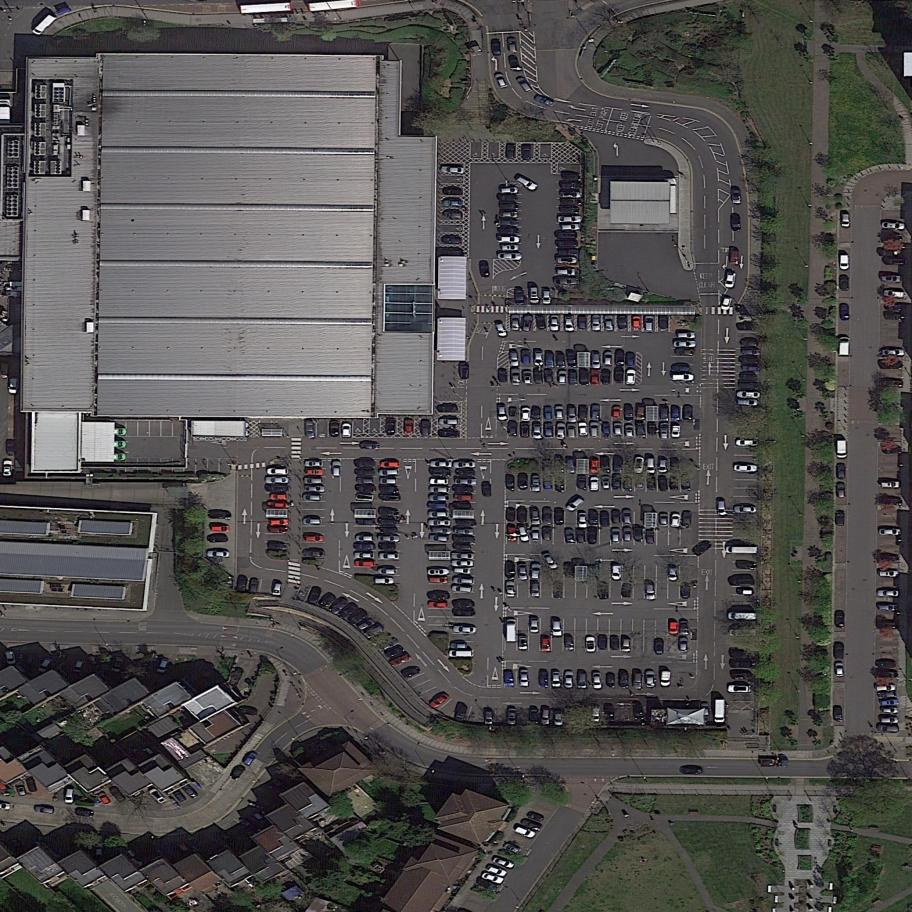large-vehicle: (239, 1, 294, 16), (307, 0, 361, 14), (758, 758, 789, 768)
small-vehicle: (30, 11, 58, 39), (327, 595, 351, 619), (426, 689, 451, 712), (346, 607, 371, 630), (177, 778, 200, 803), (514, 172, 540, 194), (374, 636, 401, 655), (337, 600, 360, 622), (361, 623, 386, 643), (387, 651, 413, 670), (147, 785, 168, 808), (691, 539, 713, 560), (515, 73, 535, 96), (541, 550, 561, 573), (107, 783, 127, 806), (480, 870, 506, 887), (474, 877, 500, 894), (317, 591, 338, 612), (533, 92, 557, 110), (513, 824, 538, 841), (565, 495, 586, 515), (400, 665, 423, 683), (383, 644, 407, 661), (491, 855, 516, 871), (306, 584, 324, 606), (355, 617, 377, 635), (37, 654, 55, 676), (728, 647, 760, 659), (519, 817, 543, 833), (242, 748, 260, 769), (95, 788, 113, 808), (485, 864, 509, 879), (229, 763, 247, 783), (493, 70, 510, 91), (453, 703, 469, 725), (493, 319, 509, 340), (726, 611, 759, 621), (110, 654, 125, 676), (171, 787, 188, 806), (155, 656, 171, 676), (507, 53, 522, 74), (13, 777, 28, 798), (502, 841, 523, 856), (505, 619, 518, 643), (71, 657, 87, 676), (520, 313, 535, 333), (714, 699, 726, 724), (516, 524, 531, 544), (838, 336, 852, 357), (643, 580, 657, 601), (266, 499, 290, 511), (881, 288, 907, 299), (880, 348, 906, 359), (596, 581, 611, 600), (24, 775, 39, 794), (7, 376, 21, 396), (878, 378, 906, 388), (835, 439, 849, 459), (729, 659, 760, 668), (727, 628, 758, 637), (731, 671, 756, 682), (632, 702, 645, 723), (725, 546, 759, 554), (438, 248, 465, 258), (4, 649, 19, 667), (611, 455, 626, 473), (527, 810, 546, 824), (554, 421, 568, 440), (530, 562, 544, 581), (502, 669, 516, 688), (427, 533, 451, 544), (377, 507, 401, 518), (452, 575, 476, 586), (727, 578, 756, 587), (724, 270, 737, 290), (881, 221, 907, 231), (440, 165, 466, 175), (670, 372, 696, 382), (876, 553, 902, 563), (733, 463, 759, 473), (878, 496, 904, 506), (719, 295, 734, 312), (235, 575, 249, 593), (552, 277, 580, 286), (601, 350, 615, 368), (612, 367, 626, 385), (551, 581, 565, 599), (832, 642, 846, 660), (884, 303, 909, 313), (735, 438, 760, 448), (876, 588, 901, 598), (304, 420, 317, 439), (458, 361, 471, 380), (590, 351, 603, 370), (591, 671, 604, 690), (551, 619, 564, 638), (599, 455, 612, 474), (735, 390, 762, 399), (875, 620, 902, 629), (448, 650, 475, 659), (377, 516, 399, 527), (354, 484, 378, 494), (514, 287, 526, 307), (451, 584, 475, 594), (563, 670, 575, 690), (878, 527, 902, 537), (877, 569, 901, 579), (610, 564, 624, 581), (385, 417, 398, 435), (735, 322, 761, 331), (838, 303, 851, 321), (271, 580, 284, 598), (497, 251, 523, 260), (678, 636, 691, 654), (632, 672, 645, 690), (632, 526, 645, 544), (833, 611, 846, 629), (530, 474, 543, 492), (530, 508, 543, 526), (541, 507, 554, 525), (452, 625, 478, 634), (74, 808, 95, 819), (378, 468, 401, 478), (329, 419, 341, 438), (510, 313, 522, 332), (645, 670, 657, 689), (633, 456, 645, 475), (540, 707, 552, 726), (735, 398, 760, 407), (883, 312, 908, 321), (207, 549, 232, 558), (301, 549, 326, 558), (673, 340, 698, 349), (879, 360, 904, 369), (103, 428, 128, 437), (733, 504, 758, 513), (556, 215, 584, 223), (620, 583, 634, 599), (402, 418, 415, 435), (681, 404, 694, 421), (634, 405, 647, 422), (589, 706, 602, 723), (563, 527, 576, 544), (667, 565, 680, 582), (379, 484, 401, 494), (738, 373, 760, 383), (374, 576, 396, 586), (529, 286, 540, 306), (33, 805, 55, 815), (507, 707, 518, 727), (420, 418, 432, 436), (266, 467, 290, 476), (378, 460, 402, 469), (730, 215, 742, 233), (880, 275, 904, 284), (2, 459, 14, 477), (454, 468, 478, 477), (103, 440, 127, 449), (533, 367, 545, 385), (544, 351, 556, 369), (559, 198, 583, 207), (555, 239, 579, 248), (497, 235, 521, 244), (479, 260, 491, 278), (555, 256, 579, 265), (566, 351, 578, 369), (590, 404, 602, 422), (496, 404, 508, 422), (585, 635, 597, 653), (577, 672, 589, 690), (660, 670, 672, 688), (553, 710, 565, 728), (735, 561, 759, 570), (679, 766, 703, 775), (64, 788, 76, 806), (874, 684, 898, 693), (877, 724, 901, 733), (554, 475, 566, 493), (507, 420, 519, 438), (427, 592, 451, 601), (504, 562, 516, 580), (538, 670, 550, 688), (359, 441, 380, 451), (340, 423, 354, 438), (882, 444, 903, 454), (876, 690, 897, 700), (731, 186, 742, 205), (623, 404, 634, 423), (519, 669, 530, 688), (264, 485, 290, 493), (882, 257, 908, 265), (450, 560, 476, 568), (556, 369, 569, 385), (624, 369, 637, 385), (563, 636, 576, 652), (727, 685, 753, 693), (645, 475, 658, 491), (577, 422, 590, 438), (553, 457, 566, 473), (541, 458, 554, 474), (516, 507, 529, 523), (436, 404, 459, 413), (438, 430, 461, 439), (427, 494, 450, 503), (427, 510, 450, 519), (431, 527, 454, 536), (353, 551, 376, 560), (560, 181, 583, 190), (559, 223, 582, 232), (441, 236, 464, 245), (497, 227, 520, 236), (556, 267, 579, 276), (729, 250, 741, 267), (248, 577, 260, 594), (555, 352, 567, 369), (508, 350, 520, 367), (563, 315, 575, 332), (617, 314, 629, 331), (589, 369, 601, 386), (566, 406, 578, 423), (597, 634, 609, 651), (609, 635, 621, 652), (653, 638, 665, 655), (680, 473, 692, 490), (587, 527, 599, 544), (610, 527, 622, 544), (519, 422, 531, 439), (518, 473, 530, 490), (565, 458, 577, 475), (658, 422, 670, 439), (645, 458, 657, 475), (504, 581, 516, 598), (528, 617, 540, 634), (540, 636, 552, 653), (102, 453, 127, 461), (265, 477, 290, 485), (377, 494, 402, 502), (427, 519, 452, 527), (452, 536, 477, 544), (207, 512, 232, 520), (451, 609, 476, 617), (304, 485, 326, 494), (741, 364, 763, 373), (741, 348, 763, 357), (268, 518, 290, 527), (430, 468, 452, 477), (428, 477, 450, 486), (303, 534, 325, 543), (536, 313, 547, 331), (511, 368, 522, 386), (533, 350, 544, 368), (541, 288, 552, 306), (491, 39, 502, 57), (442, 199, 464, 208), (442, 211, 464, 220), (604, 315, 615, 333), (615, 349, 626, 367), (601, 369, 612, 387), (551, 671, 562, 689), (875, 660, 897, 669), (878, 698, 900, 707), (878, 716, 900, 725), (518, 563, 529, 581), (620, 638, 633, 653), (563, 563, 576, 578), (541, 526, 554, 541), (331, 461, 343, 477), (738, 357, 762, 365), (838, 255, 850, 271), (453, 461, 477, 469), (454, 478, 478, 486), (353, 543, 377, 551), (559, 191, 583, 199), (556, 248, 580, 256), (505, 143, 517, 159), (520, 406, 532, 422), (554, 404, 566, 420), (426, 568, 450, 576), (680, 583, 692, 599), (682, 511, 694, 527), (835, 482, 847, 498), (877, 603, 901, 611), (543, 422, 555, 438), (567, 423, 579, 439), (531, 423, 543, 439), (589, 422, 601, 438), (517, 636, 529, 652), (355, 468, 376, 477), (267, 542, 288, 551), (454, 527, 475, 536), (211, 524, 232, 533), (377, 567, 398, 576), (442, 187, 463, 196), (499, 186, 520, 195), (498, 202, 519, 211), (499, 210, 520, 219), (499, 243, 520, 252), (591, 315, 602, 332), (644, 315, 655, 332), (579, 369, 590, 386), (659, 406, 670, 423), (554, 508, 565, 525), (835, 510, 846, 527), (832, 706, 843, 723), (604, 706, 615, 723), (623, 475, 634, 492), (505, 474, 516, 491), (507, 525, 518, 542), (530, 581, 541, 598), (353, 460, 376, 468), (738, 382, 761, 390), (267, 526, 290, 534), (430, 460, 453, 468), (455, 520, 478, 528), (378, 535, 401, 543), (378, 552, 401, 560), (353, 559, 376, 567), (555, 231, 578, 239), (674, 349, 697, 357), (875, 670, 898, 678), (453, 600, 476, 608), (304, 459, 324, 468), (6, 439, 16, 457), (355, 534, 375, 543), (677, 331, 697, 340), (671, 364, 691, 373), (542, 406, 554, 421), (619, 671, 629, 689), (670, 513, 682, 528), (576, 475, 588, 490), (635, 423, 647, 438), (301, 517, 323, 525), (739, 340, 761, 348), (877, 249, 899, 257), (839, 275, 850, 291), (429, 486, 451, 494), (550, 315, 561, 331), (497, 367, 508, 383), (523, 369, 534, 385), (544, 368, 555, 384), (671, 406, 682, 422), (507, 37, 518, 53), (497, 194, 519, 202), (498, 219, 520, 227), (626, 352, 637, 368), (568, 370, 579, 386), (612, 404, 623, 420), (578, 405, 589, 421), (679, 620, 690, 636), (669, 475, 680, 491), (600, 511, 611, 527), (622, 509, 633, 525), (622, 527, 633, 543), (879, 481, 901, 489), (836, 464, 847, 480), (482, 482, 493, 498), (543, 474, 554, 490), (589, 475, 600, 491), (530, 526, 541, 542), (427, 601, 449, 609), (612, 474, 623, 490), (601, 474, 612, 490), (529, 709, 540, 725), (437, 418, 462, 425), (879, 233, 904, 240), (356, 493, 375, 502), (522, 143, 532, 160), (578, 512, 588, 529), (589, 510, 599, 527), (454, 486, 475, 494), (453, 494, 474, 502), (449, 503, 473, 510), (452, 543, 473, 551), (451, 553, 475, 560), (559, 206, 580, 214), (428, 576, 449, 584), (521, 350, 532, 365), (659, 315, 670, 330), (577, 315, 588, 330), (658, 476, 669, 491), (659, 513, 670, 528), (645, 529, 656, 544), (699, 701, 710, 716), (634, 475, 645, 490), (613, 422, 624, 437), (624, 423, 635, 438), (658, 459, 669, 474), (590, 459, 601, 474), (485, 709, 494, 727), (304, 468, 324, 476), (270, 493, 290, 501), (379, 477, 399, 485), (841, 213, 851, 229), (880, 706, 900, 714), (426, 502, 448, 509), (669, 621, 680, 635), (717, 501, 728, 515), (601, 422, 612, 436), (453, 567, 472, 575), (378, 543, 397, 551), (562, 174, 581, 182), (532, 406, 542, 421), (606, 673, 616, 688), (835, 662, 845, 677), (302, 494, 323, 501), (303, 477, 324, 484), (209, 536, 230, 543), (631, 316, 642, 329), (355, 477, 375, 484), (356, 518, 376, 525), (379, 527, 399, 534), (735, 588, 755, 595), (612, 510, 622, 524), (576, 529, 586, 543), (506, 508, 516, 522), (449, 643, 469, 650), (647, 422, 657, 436), (672, 424, 682, 438)
